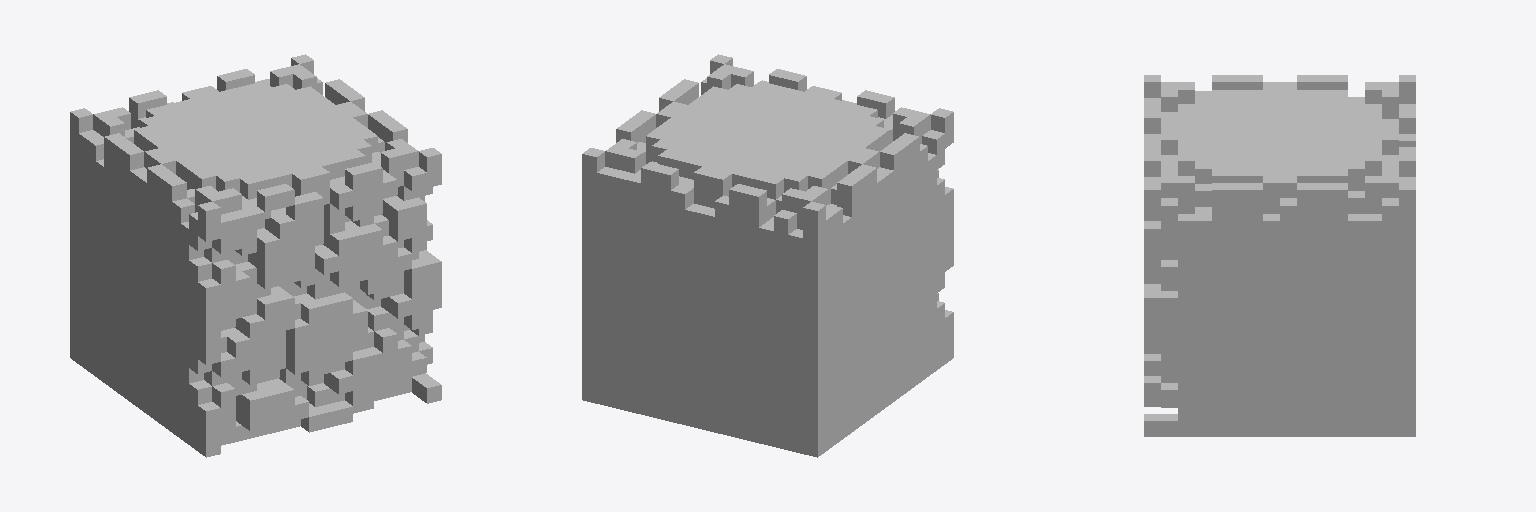
File: Brown Edge-0.obj
3 renders of one model, left to right at view 1: azimuth 30°, elevation 25°; view 2: azimuth 150°, elevation 25°; view 3: azimuth 270°, elevation 25°, orthographic.
Visible parts, largest first — view 1: object 1; view 2: object 1; view 3: object 1.
Boxes of the visible parts, <box> form: object 1: <box>70,54,441,457</box>; object 1: <box>582,54,953,457</box>; object 1: <box>1144,75,1415,436</box>.
Size of the model in its own units: 1.6 by 1.6 by 1.6.